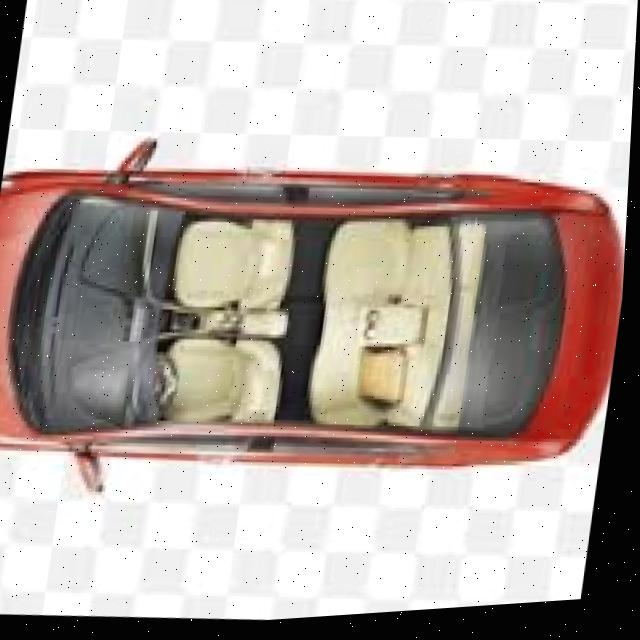truck: (0, 135, 632, 506)
